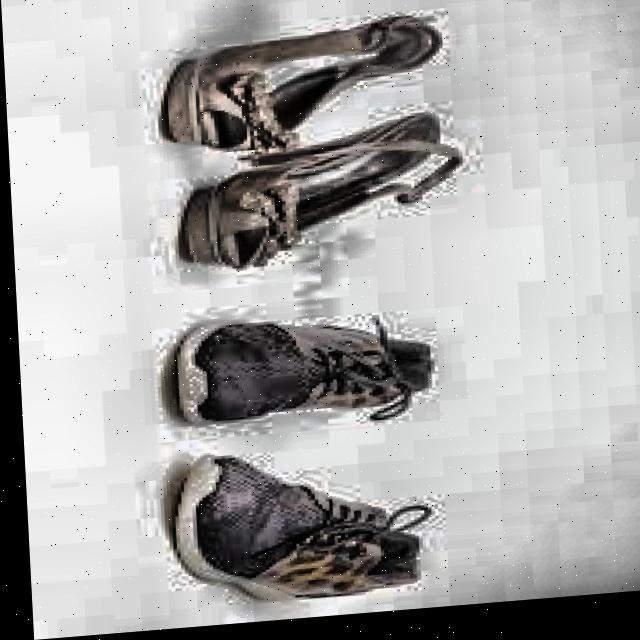shoes: (153, 302, 458, 617), (155, 10, 468, 280)
